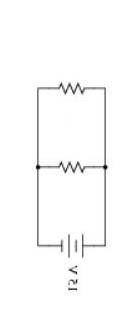resistor: (44, 151, 97, 184), (50, 71, 95, 101)
